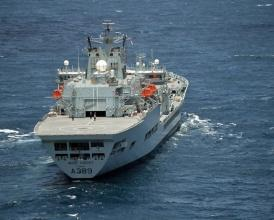warship: (33, 13, 194, 182)
